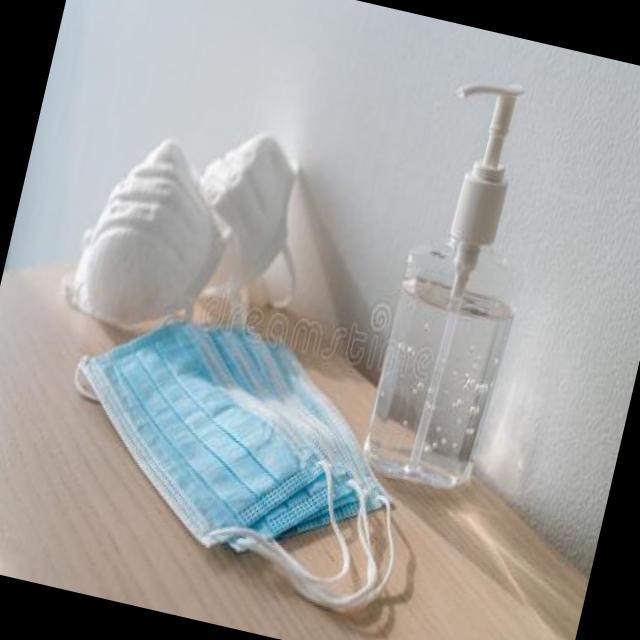sanitizer: (350, 61, 560, 488)
